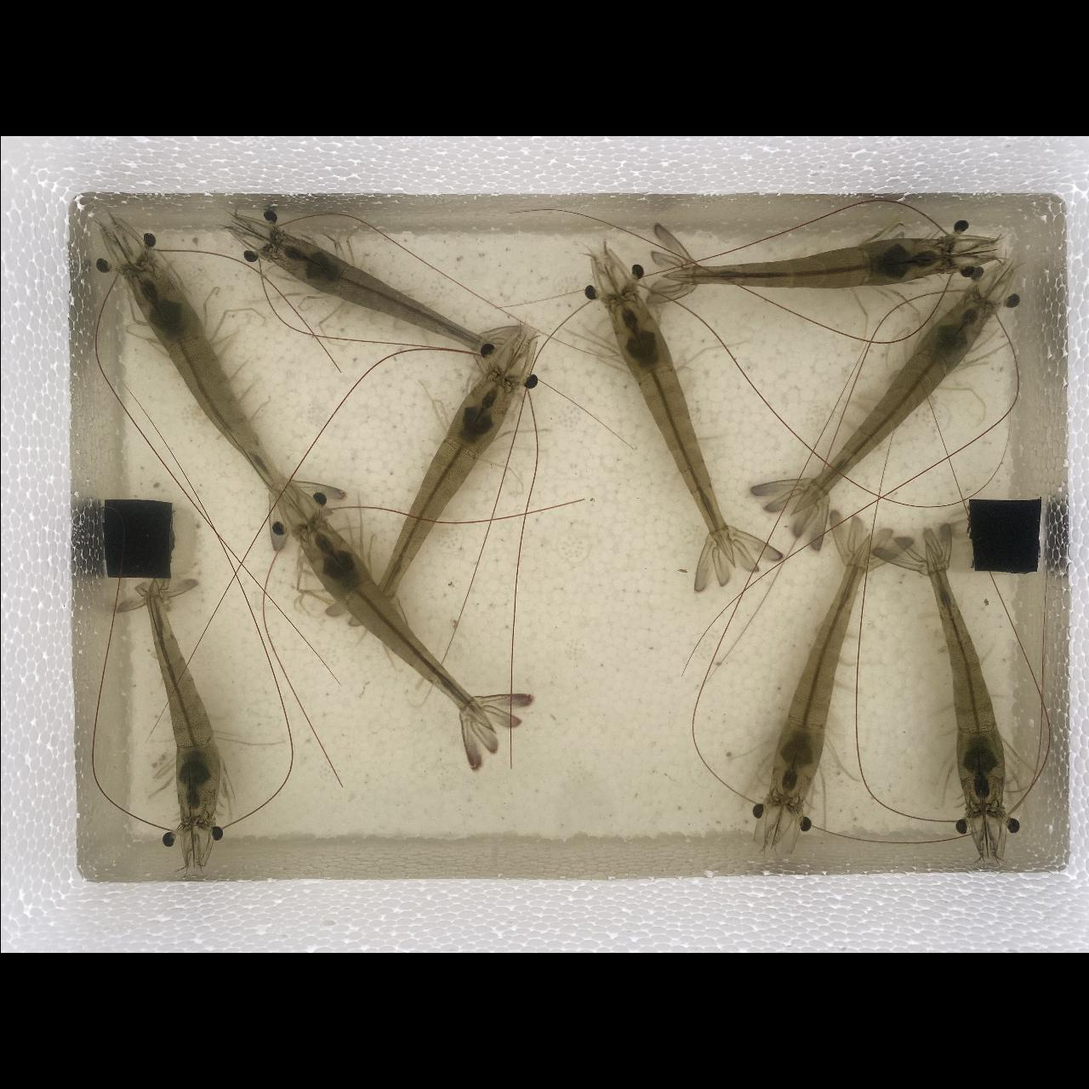box: (100, 500, 172, 579), (968, 499, 1040, 573)
top_shrimp: (126, 260, 298, 514), (798, 296, 987, 509), (298, 521, 488, 728), (611, 294, 730, 562), (379, 374, 509, 599), (267, 235, 499, 354), (773, 541, 863, 807), (926, 544, 1006, 815), (145, 585, 218, 822), (667, 240, 948, 289)
